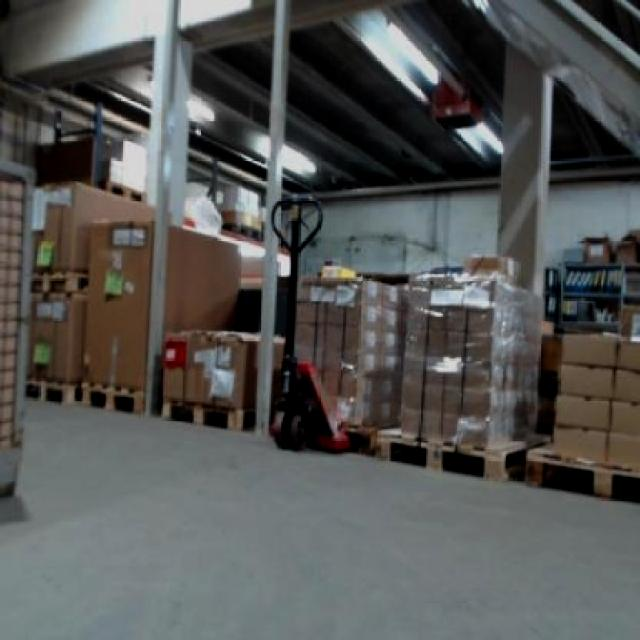floor: (0, 400, 637, 637)
pallets: (525, 332, 637, 494), (160, 329, 255, 426)
